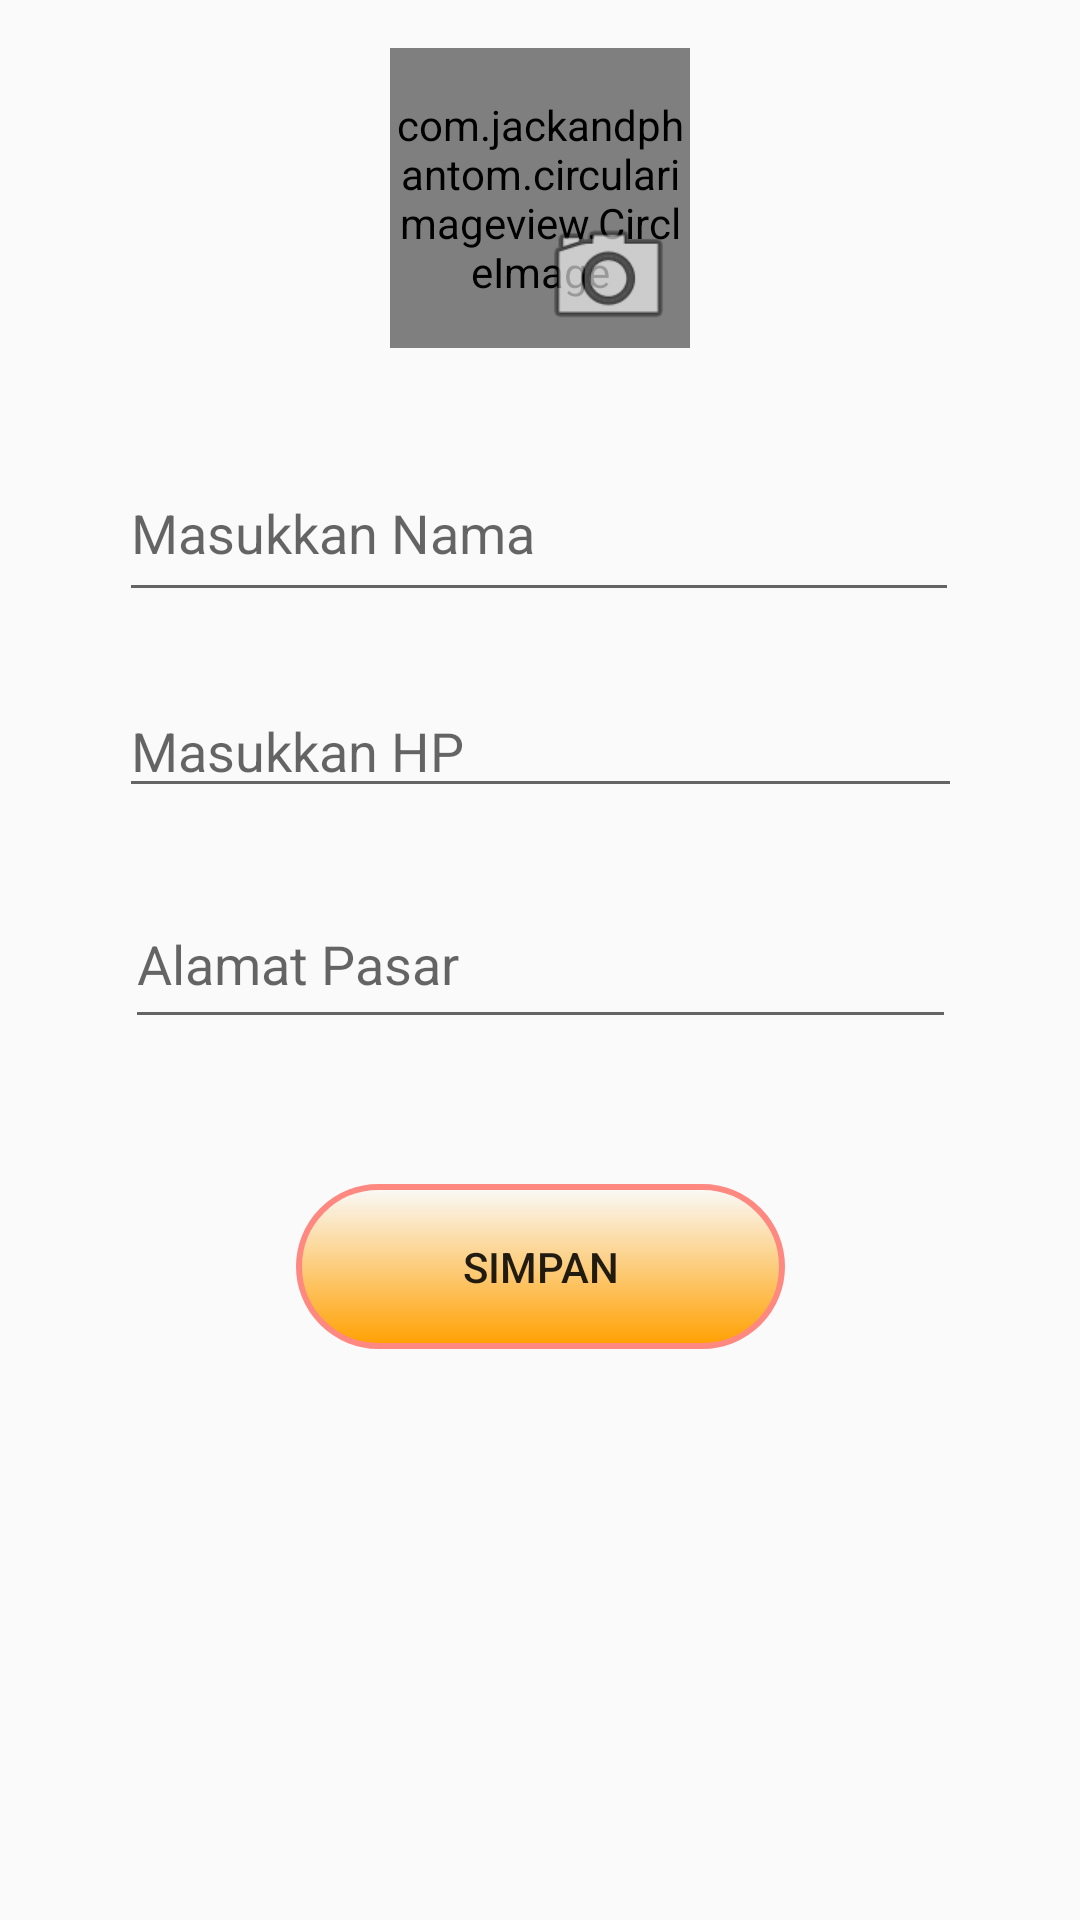

Locate icon controls on the screen. Image size 1080 x 1920, boxes as [x1, y1, x2, y2].
camera: [538, 207, 678, 317]
